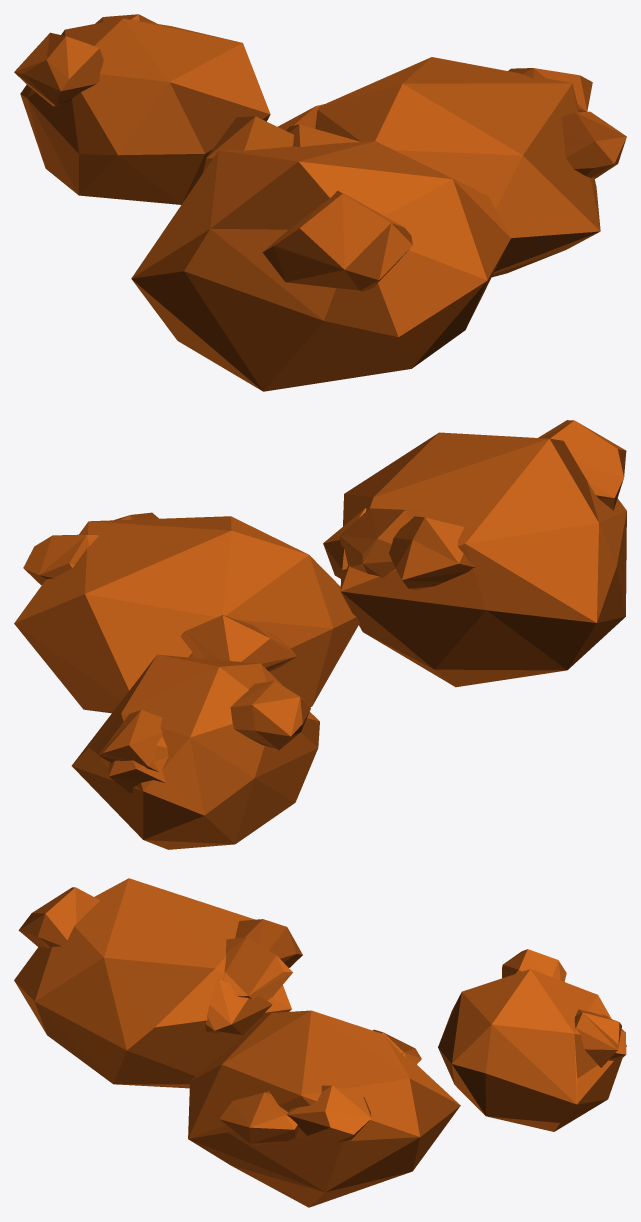
The model's file is Leaves_C.glb.
3 renders of one model, top to bottom at view 1: azimuth 30°, elevation 25°; view 2: azimuth 150°, elevation 25°; view 3: azimuth 270°, elevation 25°, orthographic. The views are drawn at different scales.
Visible parts, largest first — view 1: Leaves; view 2: Leaves; view 3: Leaves.
Part boxes in pixels (x1,y1,x2,y2): Leaves: (14,14,626,391); Leaves: (14,420,626,849); Leaves: (14,878,626,1207).
Size of the model in its own units: 16.99 by 8.44 by 22.39.
